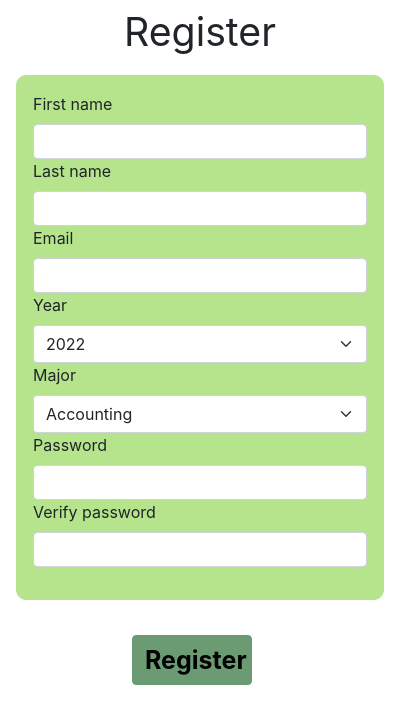
Test: Registration Alerts › verify password alert
Type "Jake" into the field with test id "firstname-input" at (200, 142), box [33, 124, 367, 159]
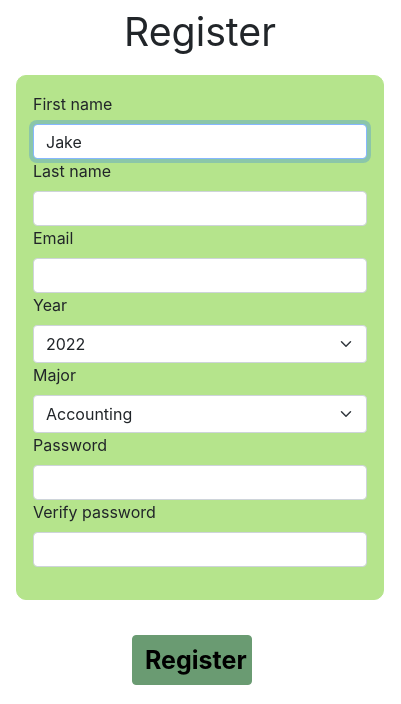
Type "Doh" into the field with test id "lastname-input" at (200, 209), box [33, 191, 367, 226]
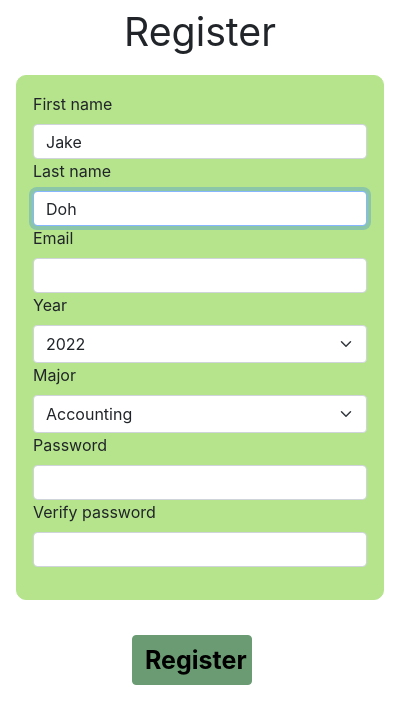
Type "nuts@gmail.com" into the field with test id "email-input" at (200, 276), box [33, 258, 367, 293]
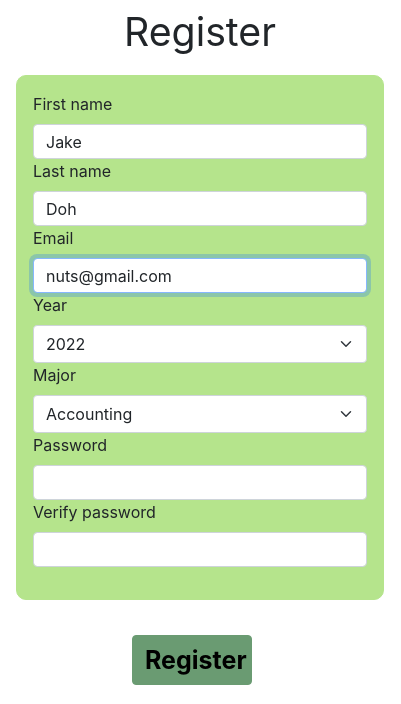
Type "abc" into the password field with test id "password-input" at (200, 483), box [33, 465, 367, 500]
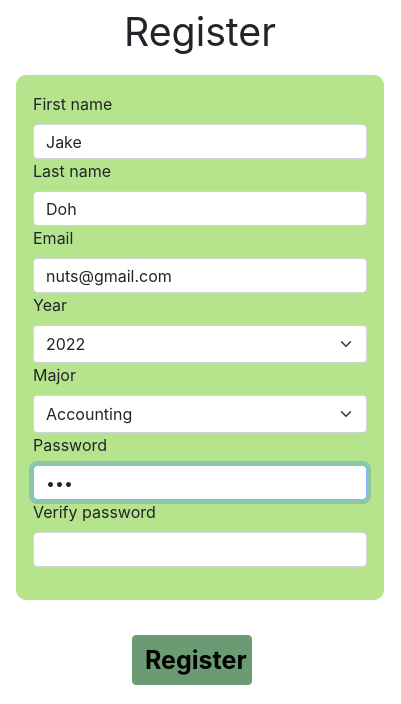
Type "cba" into the password field with test id "verpassword-input" at (200, 550), box [33, 532, 367, 567]
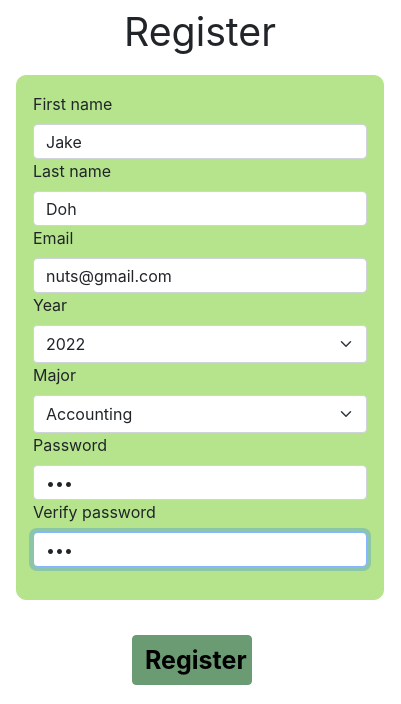
Click the button "Register" at (192, 660), box [132, 635, 252, 685]
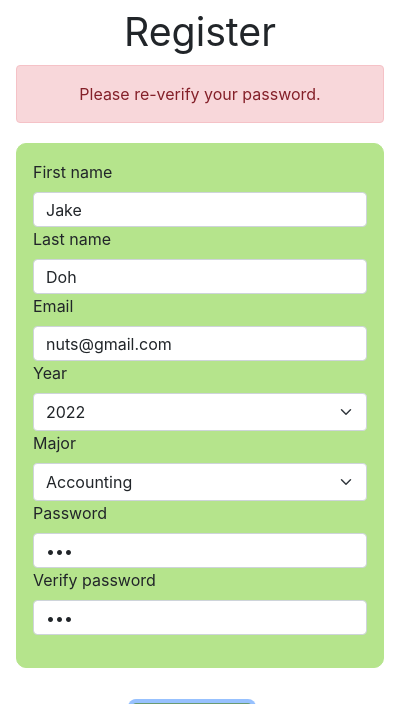
Now the text "Please re-verify your password." is shown, box [16, 65, 384, 123]
